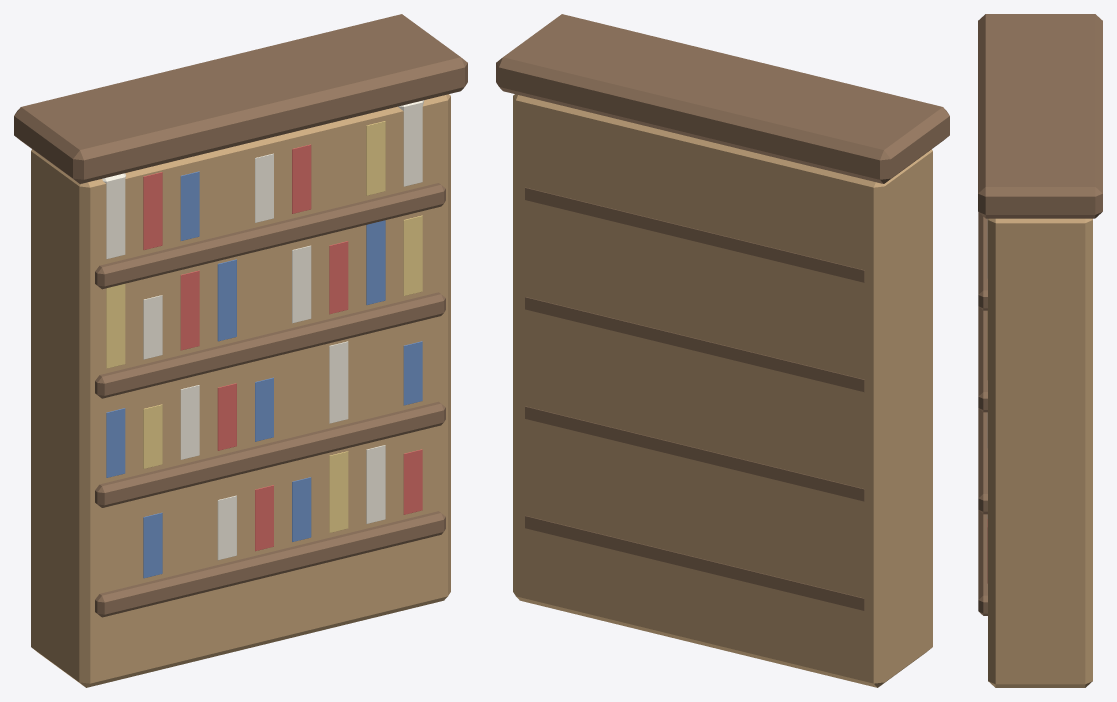
Rendered from bookshelf.glb.
3 renders of one model, left to right at view 1: azimuth 30°, elevation 25°; view 2: azimuth 150°, elevation 25°; view 3: azimuth 270°, elevation 25°, orthographic. The views are drawn at different scales.
Parts seen in each view (by area): view 1: bookshelf; view 2: bookshelf; view 3: bookshelf.
Boxes of the visible parts, <box> form: bookshelf: <box>14,14,467,687</box>; bookshelf: <box>496,14,949,687</box>; bookshelf: <box>978,14,1102,687</box>.
Size of the model in its own units: 1.7 by 2.24 by 0.5.
